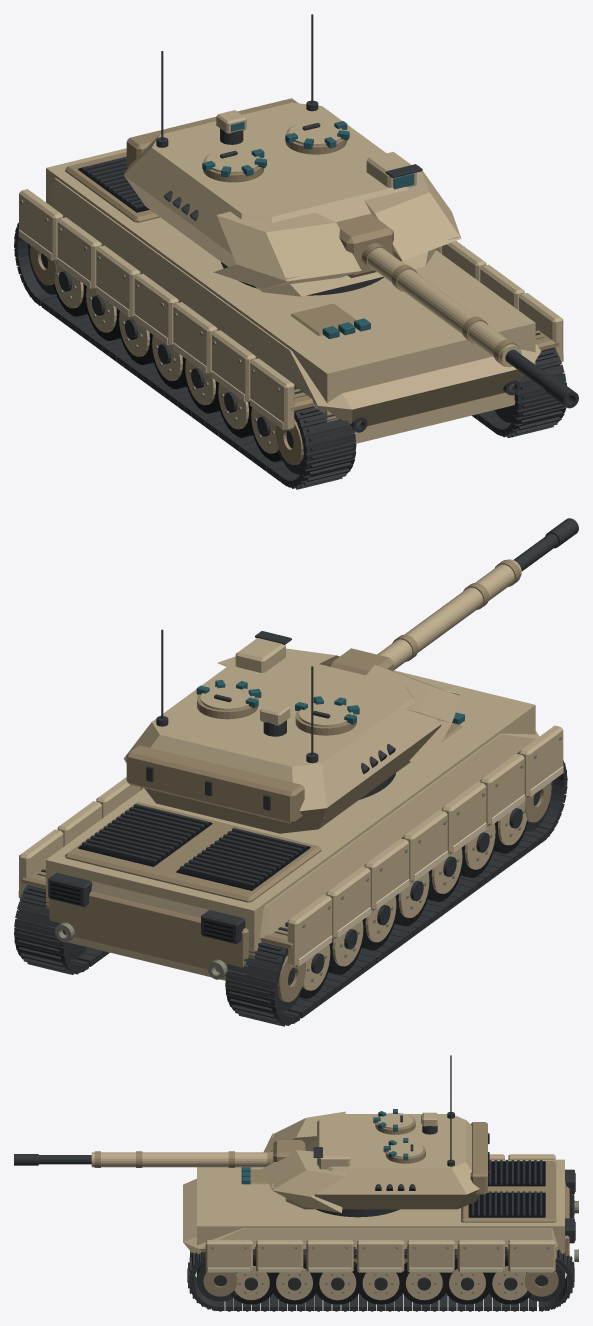
Rendered from iron_dust_02.glb.
The picture shows the model from 3 angles, top to bottom: view 1: azimuth 30°, elevation 25°; view 2: azimuth 150°, elevation 25°; view 3: azimuth 270°, elevation 25°; orthographic projection. The views are drawn at different scales.
Visible parts, largest first — view 1: COL_Hull, TurretMesh, SideSkirts_Details, Hull, Left_TrackBelt, Left_WedgeArmor, Right_WedgeArmor, ThermalSleeve, Right_TrackBelt, EngineDeck_Details, TurretPivot_Details, GunMantlet (+13 smaller); view 2: TurretMesh, SideSkirts_Details, COL_Hull, EngineDeck_Details, Hull, Left_TrackBelt, ArmorPanels_Details, TurretPivot_Details, Right_TrackBelt, ThermalSleeve, Left_WedgeArmor, Exhausts_Details (+12 smaller); view 3: TurretMesh, SideSkirts_Details, COL_Hull, Hull, Right_TrackBelt, EngineDeck_Details, Right_WedgeArmor, ThermalSleeve, TurretPivot_Details, Left_WedgeArmor, Right_WheelRim_02, Right_WheelRim_04 (+24 smaller).
Part boxes in pixels (bbox=[...]): COL_Hull: bbox=[46, 148, 535, 443]; TurretMesh: bbox=[124, 102, 436, 296]; SideSkirts_Details: bbox=[18, 189, 563, 430]; Hull: bbox=[49, 178, 541, 426]; Left_TrackBelt: bbox=[14, 216, 356, 489]; Left_WedgeArmor: bbox=[213, 211, 361, 288]; Right_WedgeArmor: bbox=[364, 166, 461, 261]; ThermalSleeve: bbox=[368, 247, 521, 367]; Right_TrackBelt: bbox=[472, 330, 566, 437]; EngineDeck_Details: bbox=[65, 152, 160, 222]; TurretPivot_Details: bbox=[126, 14, 383, 295]; GunMantlet: bbox=[336, 214, 393, 278]; TurretMesh: bbox=[123, 656, 441, 833]; SideSkirts_Details: bbox=[18, 725, 563, 966]; COL_Hull: bbox=[46, 670, 535, 980]; EngineDeck_Details: bbox=[65, 802, 321, 902]; Hull: bbox=[91, 731, 539, 942]; Left_TrackBelt: bbox=[225, 752, 567, 1026]; ArmorPanels_Details: bbox=[49, 891, 248, 979]; TurretPivot_Details: bbox=[126, 629, 395, 823]; Right_TrackBelt: bbox=[14, 867, 109, 974]; ThermalSleeve: bbox=[377, 559, 521, 669]; Left_WedgeArmor: bbox=[366, 665, 461, 765]; Exhausts_Details: bbox=[48, 872, 245, 944]; TurretMesh: bbox=[285, 1114, 479, 1209]; SideSkirts_Details: bbox=[205, 1154, 556, 1272]; COL_Hull: bbox=[197, 1159, 564, 1271]; Hull: bbox=[183, 1179, 566, 1263]; Right_TrackBelt: bbox=[187, 1247, 574, 1311]; EngineDeck_Details: bbox=[461, 1160, 556, 1222]; Right_WedgeArmor: bbox=[261, 1150, 345, 1213]; ThermalSleeve: bbox=[91, 1152, 267, 1167]; TurretPivot_Details: bbox=[316, 1055, 489, 1217]; Left_WedgeArmor: bbox=[263, 1111, 345, 1152]; Right_WheelRim_02: bbox=[276, 1268, 312, 1300]; Right_WheelRim_04: bbox=[362, 1272, 399, 1300].
Size of the model in its own units: 4.16 by 4.11 by 10.98.
